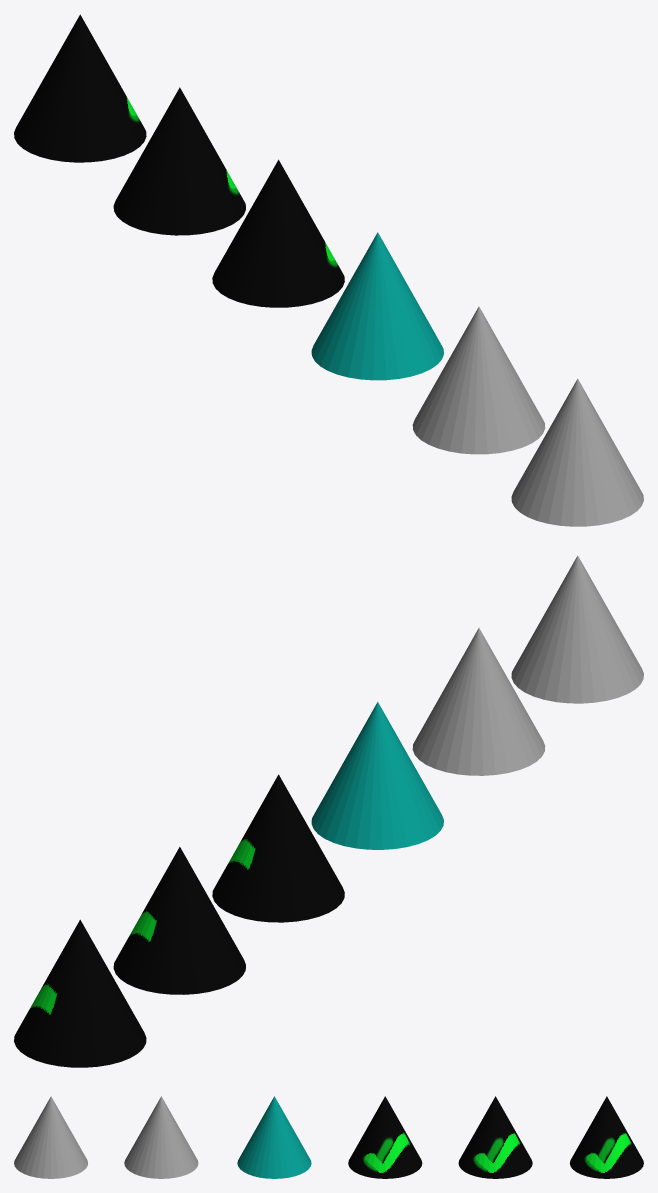
File: shader-test.obj
The picture shows the model from 3 angles, top to bottom: view 1: azimuth 30°, elevation 25°; view 2: azimuth 150°, elevation 25°; view 3: azimuth 270°, elevation 25°; orthographic projection. The views are drawn at different scales.
Visible parts, largest first — view 1: cone3CyanWithVertexColorOverlay_Cone.002, cone6invisibleWithVertexColorAndTextureOverlay_Cone.005, cone4invisibleWithTextureOverlay_Cone.003, cone5redWithTextureOverlay_Cone.004, cone2invisibleWithVertexColorOverlay_Cone.001, cone1invisible_Cone; view 2: cone4invisibleWithTextureOverlay_Cone.003, cone1invisible_Cone, cone6invisibleWithVertexColorAndTextureOverlay_Cone.005, cone3CyanWithVertexColorOverlay_Cone.002, cone2invisibleWithVertexColorOverlay_Cone.001, cone5redWithTextureOverlay_Cone.004; view 3: cone5redWithTextureOverlay_Cone.004, cone3CyanWithVertexColorOverlay_Cone.002, cone6invisibleWithVertexColorAndTextureOverlay_Cone.005, cone4invisibleWithTextureOverlay_Cone.003, cone2invisibleWithVertexColorOverlay_Cone.001, cone1invisible_Cone.
Boxes of the visible parts, x1,y1,x2,y2 form: cone3CyanWithVertexColorOverlay_Cone.002: [311, 232, 443, 380]; cone6invisibleWithVertexColorAndTextureOverlay_Cone.005: [14, 14, 146, 162]; cone4invisibleWithTextureOverlay_Cone.003: [212, 159, 344, 307]; cone5redWithTextureOverlay_Cone.004: [113, 87, 245, 235]; cone2invisibleWithVertexColorOverlay_Cone.001: [412, 306, 545, 454]; cone1invisible_Cone: [511, 378, 643, 526]; cone4invisibleWithTextureOverlay_Cone.003: [212, 774, 344, 922]; cone1invisible_Cone: [511, 555, 643, 703]; cone6invisibleWithVertexColorAndTextureOverlay_Cone.005: [14, 919, 146, 1067]; cone3CyanWithVertexColorOverlay_Cone.002: [311, 702, 443, 849]; cone2invisibleWithVertexColorOverlay_Cone.001: [412, 628, 545, 775]; cone5redWithTextureOverlay_Cone.004: [113, 847, 245, 994]; cone5redWithTextureOverlay_Cone.004: [458, 1096, 532, 1178]; cone3CyanWithVertexColorOverlay_Cone.002: [237, 1096, 311, 1178]; cone6invisibleWithVertexColorAndTextureOverlay_Cone.005: [570, 1096, 643, 1178]; cone4invisibleWithTextureOverlay_Cone.003: [348, 1096, 422, 1178]; cone2invisibleWithVertexColorOverlay_Cone.001: [124, 1096, 198, 1178]; cone1invisible_Cone: [14, 1096, 87, 1178].
Size of the model in its own units: 2 by 2 by 16.98.
Materials: 6 (3 with a texture image).
